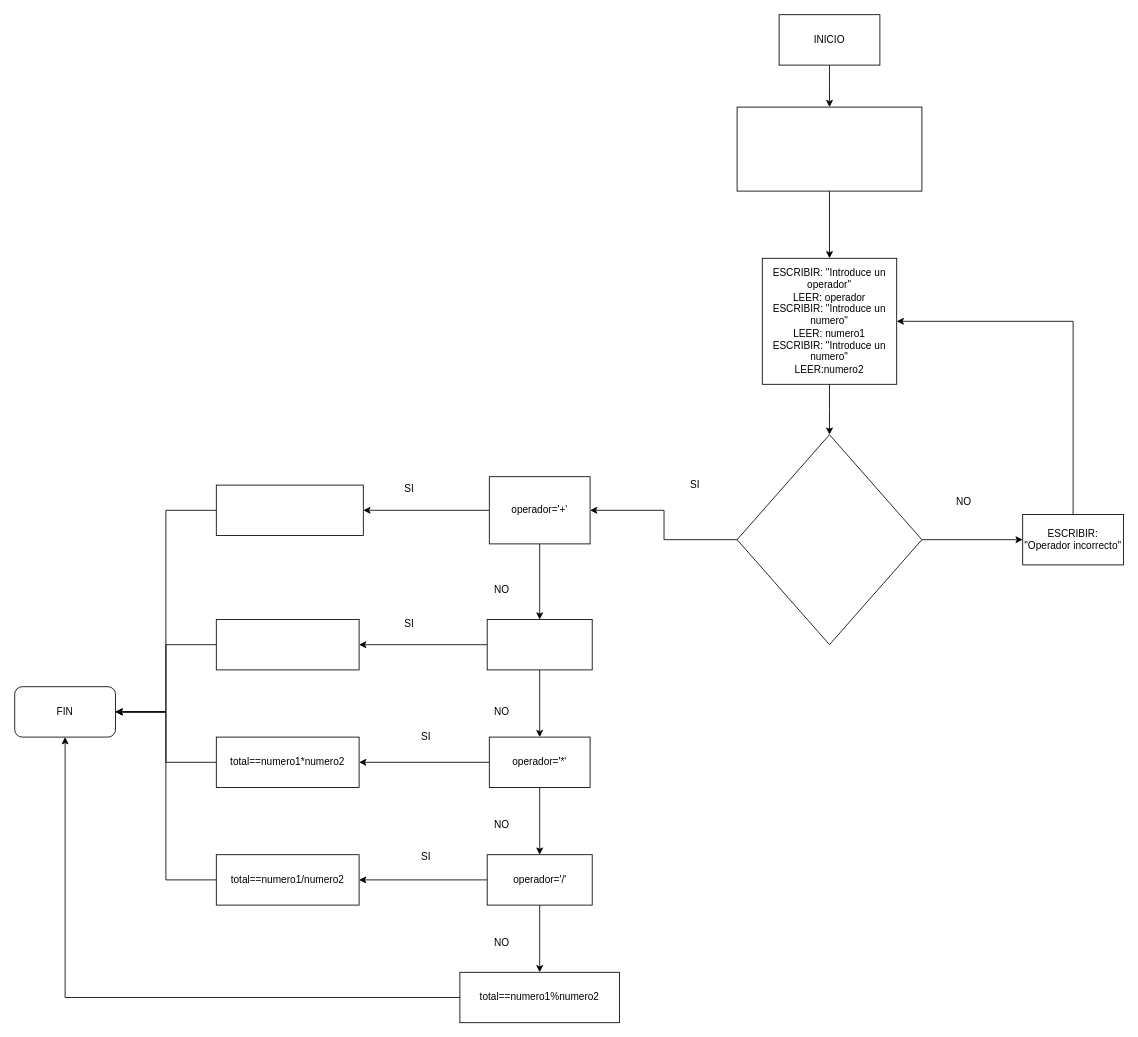
Image size: 1138x1037. Some labels were removed from this diagram. Here are the shapes that lost their labels. From the top down, the centre of each, then its label:
(x=829, y=148): operador: CARACTER numero1: ENTERO numero2: ENTERO total: ENTERO
(x=289, y=510): total==numero1+numero2
(x=829, y=539): operador='+' OR operador='-' OR operador='*' OR operador='/' OR operador='%'
(x=287, y=644): total==numero1-numero2
(x=539, y=644): operador='-'
